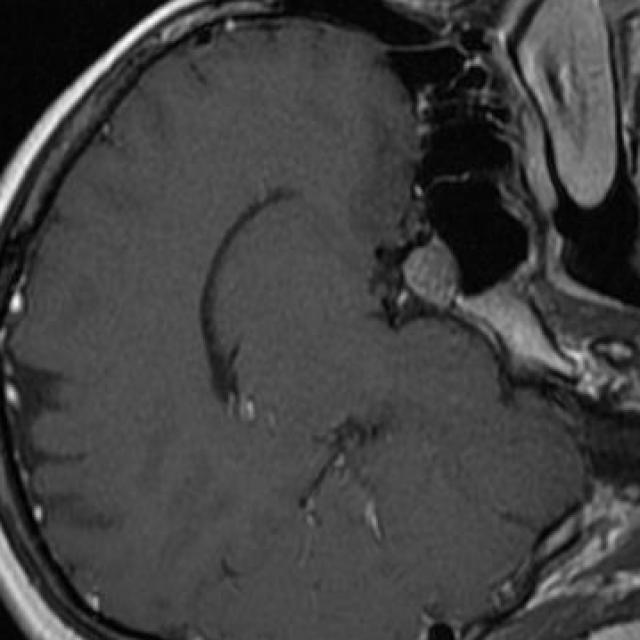pituitary: (406, 242, 462, 301)
